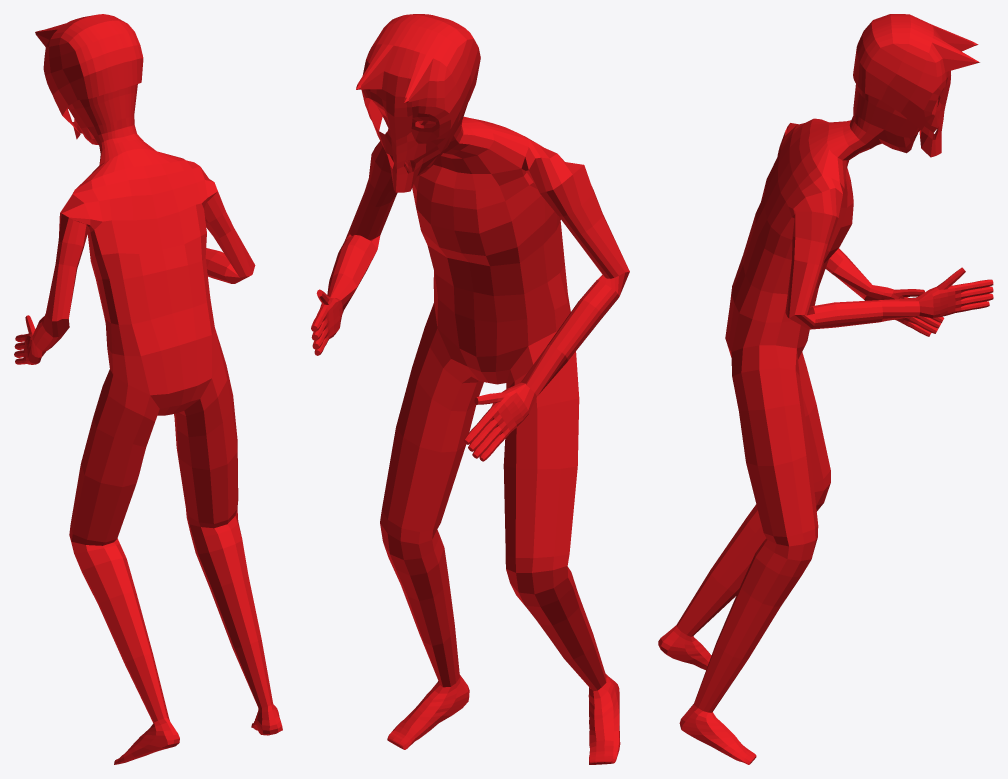
The model's file is correrE_000115.obj.
3 renders of one model, left to right at view 1: azimuth 30°, elevation 25°; view 2: azimuth 150°, elevation 25°; view 3: azimuth 270°, elevation 25°, orthographic. The views are drawn at different scales.
Visible parts, largest first — view 1: Plane.002_Plane.001; view 2: Plane.002_Plane.001; view 3: Plane.002_Plane.001.
Boxes of the visible parts, bbox=[...] form: Plane.002_Plane.001: bbox=[14, 14, 282, 764]; Plane.002_Plane.001: bbox=[311, 14, 629, 764]; Plane.002_Plane.001: bbox=[658, 14, 993, 764].
Bounding box in the file's own units: 2.26 × 6.71 × 2.93.
